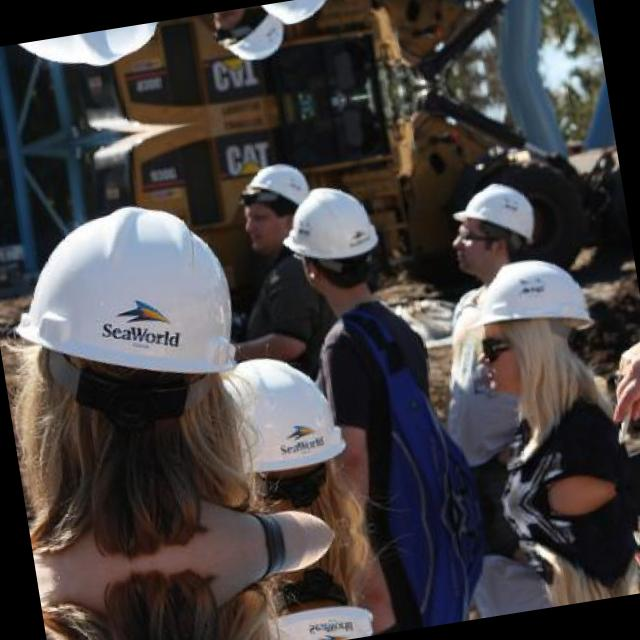helmet: (0, 163, 282, 463), (182, 324, 388, 533), (434, 219, 622, 430), (0, 12, 228, 112), (216, 541, 409, 640), (260, 162, 388, 292), (438, 164, 548, 284), (225, 142, 322, 263), (202, 2, 295, 85), (233, 0, 351, 51)
